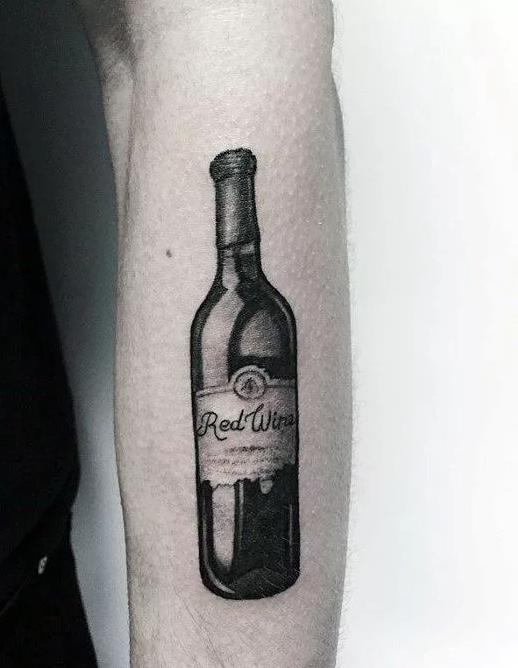wine bottle: (190, 150, 301, 600)
wine label: (192, 366, 296, 487)
